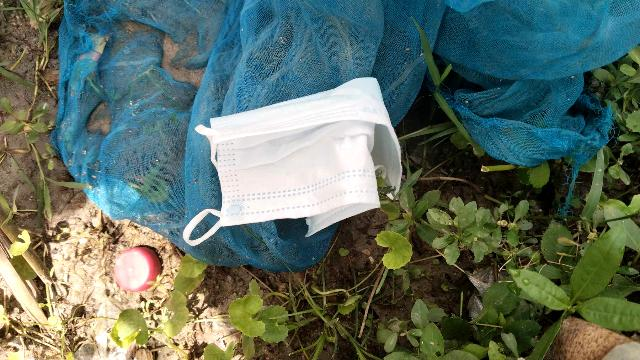mask: (167, 68, 437, 242)
